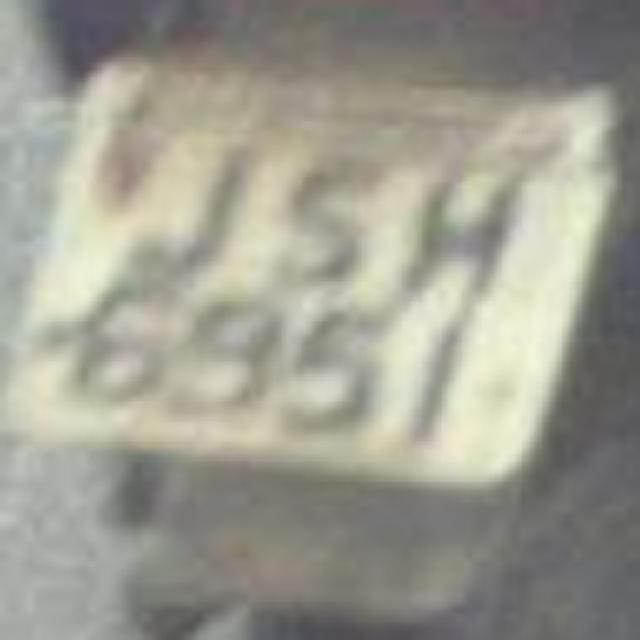1: (396, 304, 484, 444)
5: (265, 284, 400, 436)
6: (44, 264, 188, 431)
9: (152, 268, 296, 432)
H: (392, 148, 520, 320)
J: (104, 128, 256, 292)
